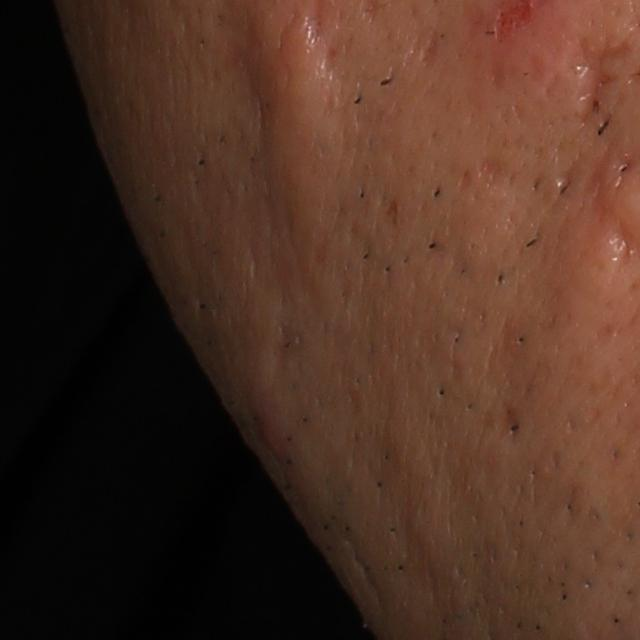atrophic_scar: (483, 306, 555, 425), (611, 223, 640, 264), (420, 32, 444, 71), (478, 153, 503, 183)
papule: (251, 389, 296, 466)
